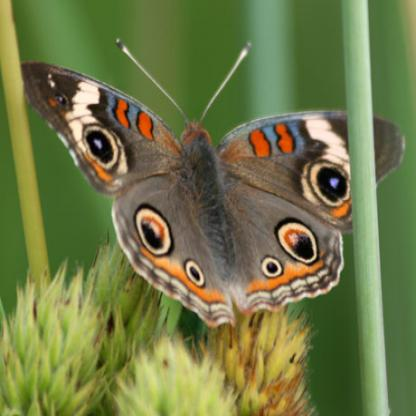Common Buckeye: (17, 15, 407, 341)
